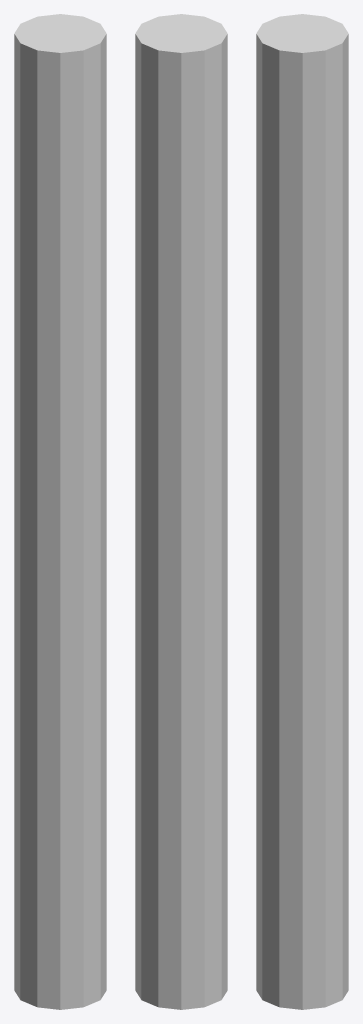
Rendered from wall_column.glb.
3 views of the same model, side by side, from view 1: azimuth 90°, elevation 25°; view 2: azimuth 150°, elevation 25°; view 3: azimuth 270°, elevation 25° (orthographic).
Visible parts, largest first — view 1: Wall Column 3; view 2: Wall Column 3; view 3: Wall Column 3.
Part boxes in pixels (box(x1,y1,x2,y2)): Wall Column 3: box(14, 14, 106, 1009); Wall Column 3: box(135, 14, 227, 1009); Wall Column 3: box(256, 14, 348, 1009).
Bounding box in the file's own units: 0.2657 × 3.04 × 0.2657.
1 material, 1 textured.
